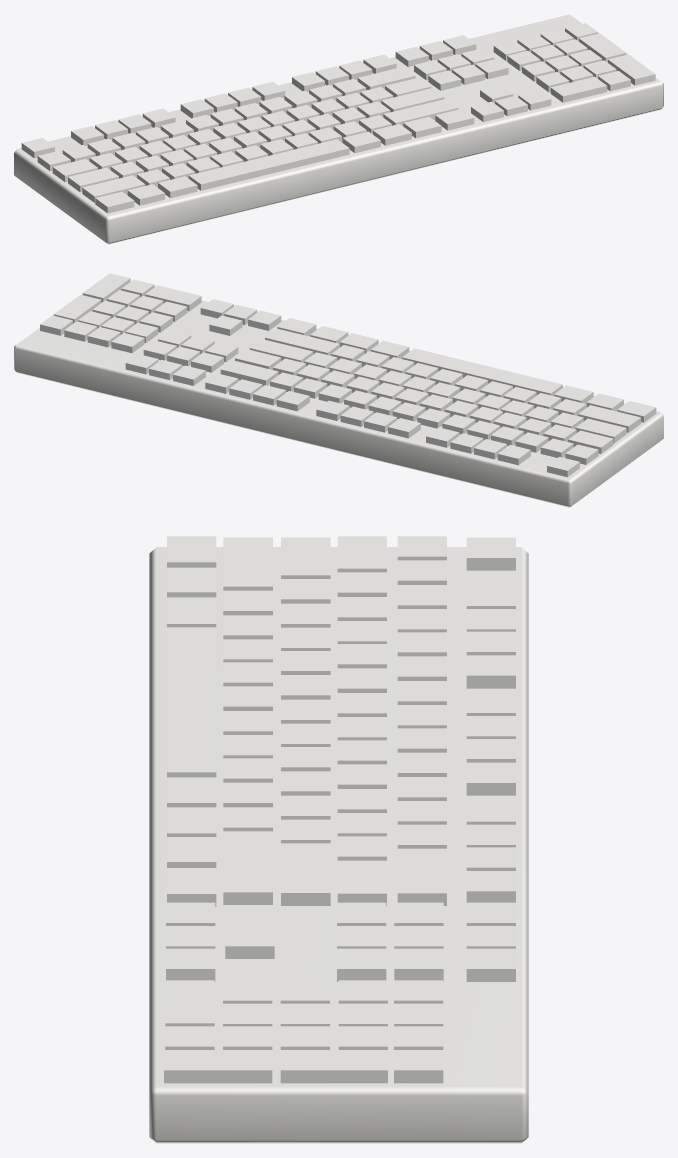
File: Keyboard_1.glb
3 views of the same model, one above another, from view 1: azimuth 30°, elevation 25°; view 2: azimuth 150°, elevation 25°; view 3: azimuth 270°, elevation 25° (orthographic). The views are drawn at different scales.
Visible parts, largest first — view 1: Keyboard_1; view 2: Keyboard_1; view 3: Keyboard_1.
Boxes of the visible parts, x1=… form: Keyboard_1: x1=14, y1=14, x2=663, y2=244; Keyboard_1: x1=14, y1=273, x2=663, y2=507; Keyboard_1: x1=149, y1=536, x2=528, y2=1143.
Size of the model in its own units: 0.8062 by 0.0483 by 0.2369.
1 material, 1 textured.
